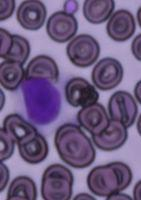L: (12, 76, 68, 134)
